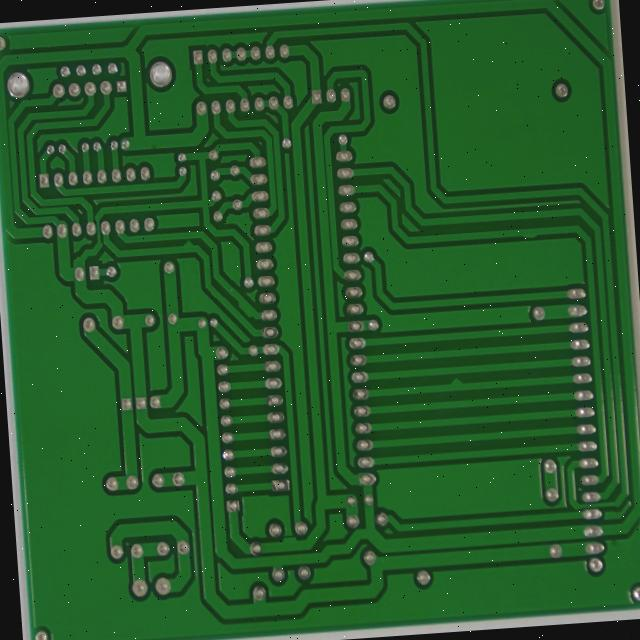spur: (430, 355, 460, 376), (208, 271, 232, 296), (252, 523, 280, 543), (508, 193, 535, 212), (148, 205, 170, 225)
